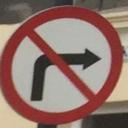NoVirarDireita: (0, 4, 122, 124)
